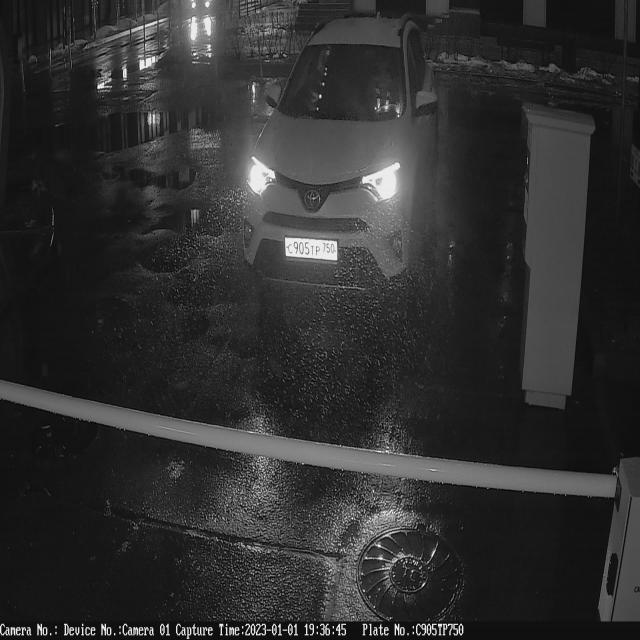car-plate-numbers: (282, 233, 343, 271)
